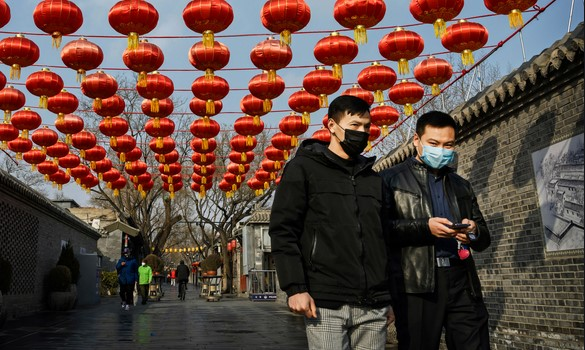face_with_mask: (326, 98, 374, 160), (411, 113, 459, 172)
